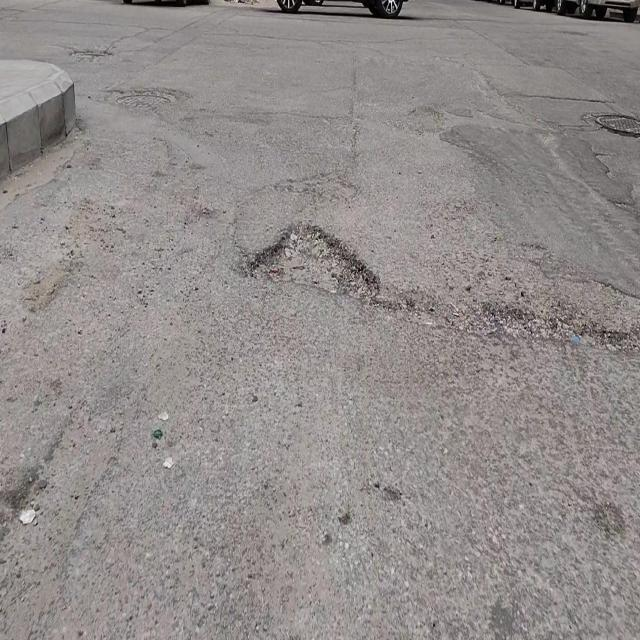Pothole: (247, 215, 382, 303)
